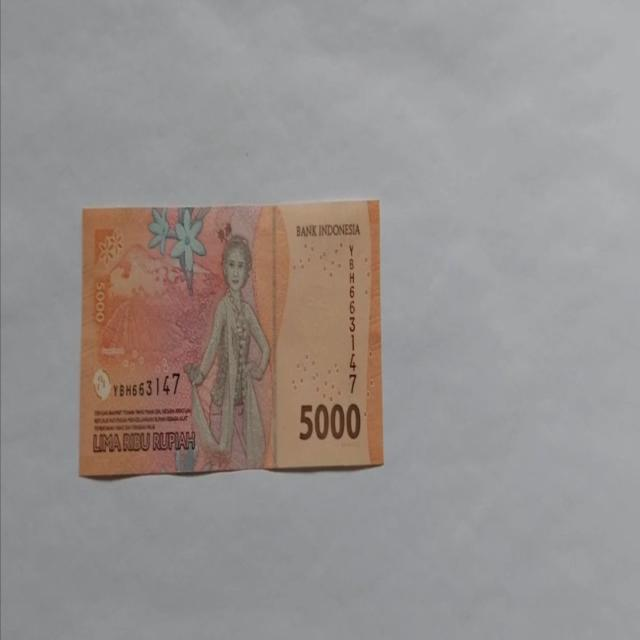lima ribu rupiah: (79, 198, 384, 478), (182, 233, 272, 472)
